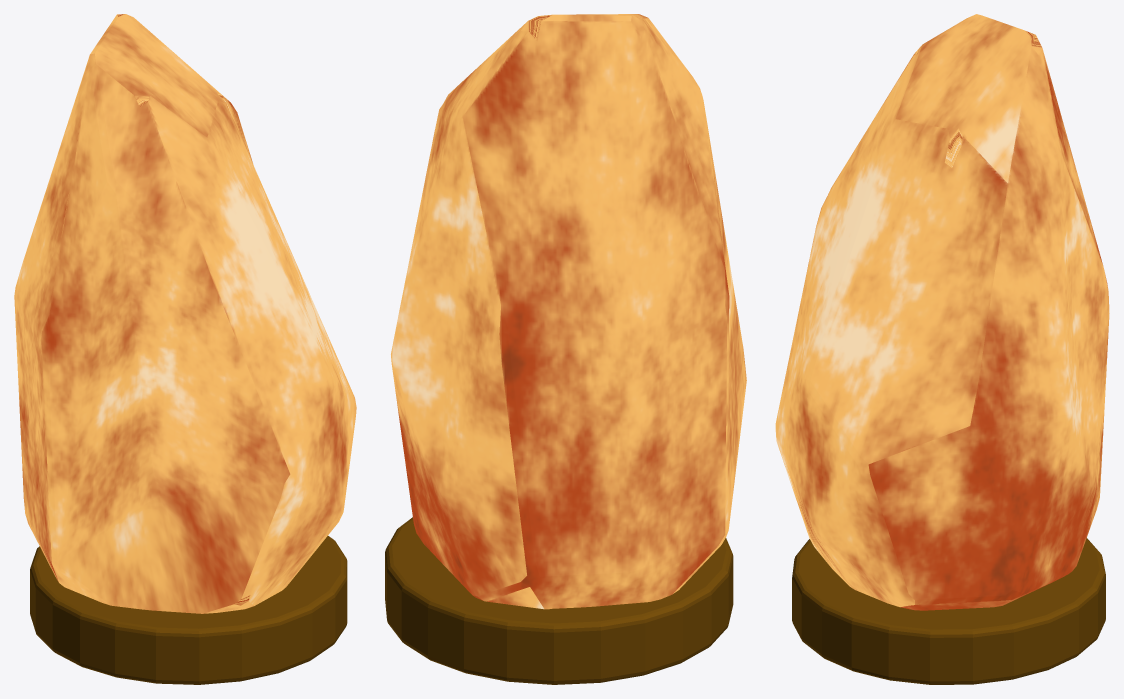
Rendered from Closer door_01.fbx.
3 renders of one model, left to right at view 1: azimuth 30°, elevation 25°; view 2: azimuth 150°, elevation 25°; view 3: azimuth 270°, elevation 25°, orthographic. The views are drawn at different scales.
Visible parts, largest first — view 1: CrystalLamp; view 2: CrystalLamp; view 3: CrystalLamp.
Part boxes in pixels (x1,y1,x2,y2): CrystalLamp: (14, 14, 356, 684); CrystalLamp: (385, 14, 746, 684); CrystalLamp: (775, 14, 1109, 684).
Size of the model in its own units: 11.29 by 21.87 by 11.51.
